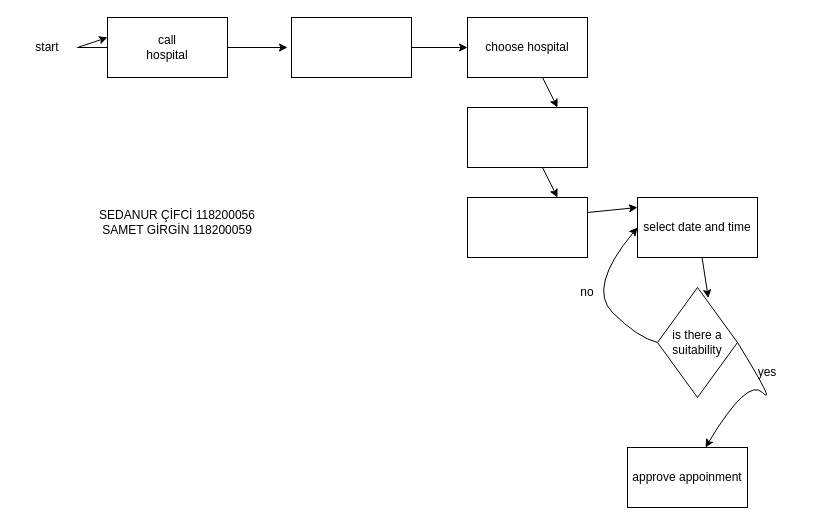
Some shapes in this 814 by 525 pixel diagram are drawn without their labels. The shapes that lost their labels are listed below. From the top down, each one's box as (x1, y1, x2, y2) in pixels, then its label:
(290, 16, 412, 78): select department for about dentist
(466, 106, 588, 168): choose clinic location
(466, 196, 588, 258): select doktor
